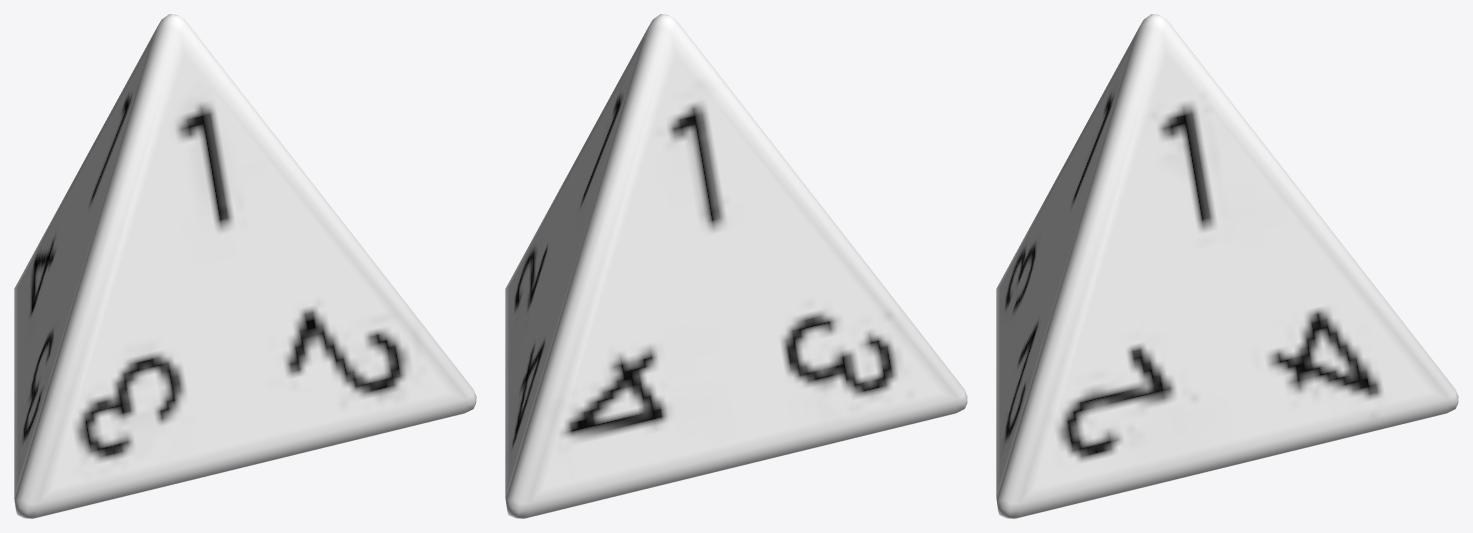
The picture shows the model from 3 angles, left to right: view 1: azimuth 30°, elevation 25°; view 2: azimuth 150°, elevation 25°; view 3: azimuth 270°, elevation 25°; orthographic projection.
Visible parts, largest first — view 1: d4; view 2: d4; view 3: d4.
Part boxes in pixels (x1,y1,x2,y2): d4: [14, 14, 476, 518]; d4: [505, 14, 967, 518]; d4: [996, 14, 1458, 518].
Size of the model in its own units: 1.59 by 1.32 by 1.39.
1 material, 1 textured.
